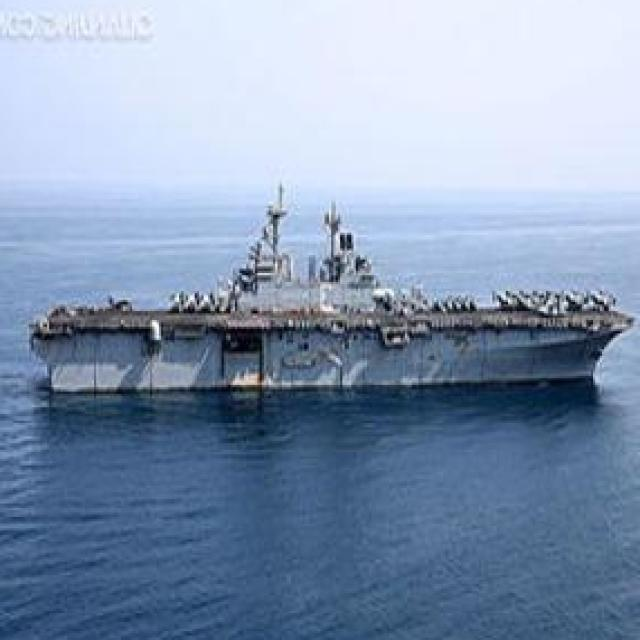navalvessels: (38, 142, 636, 410)
